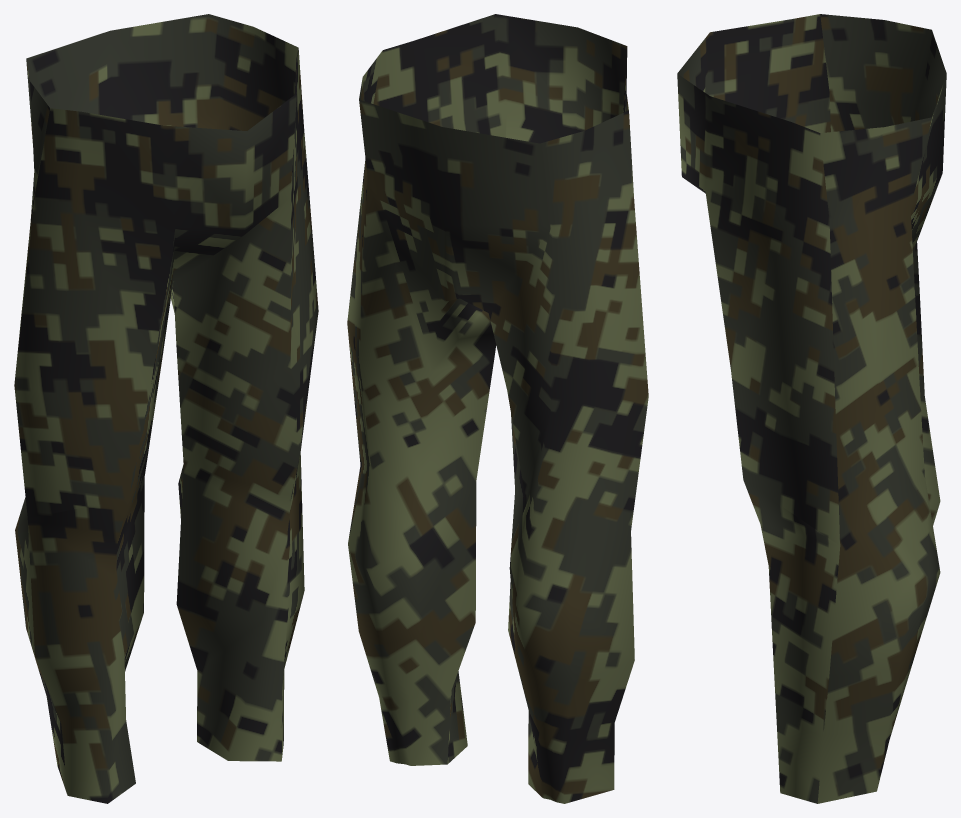
Rendered from Army_Pants.fbx.
The picture shows the model from 3 angles, left to right: view 1: azimuth 30°, elevation 25°; view 2: azimuth 150°, elevation 25°; view 3: azimuth 270°, elevation 25°; orthographic projection.
Visible parts, largest first — view 1: Trousers_Army; view 2: Trousers_Army; view 3: Trousers_Army.
Part boxes in pixels (x1,y1,x2,y2): Trousers_Army: [14, 14, 318, 803]; Trousers_Army: [347, 14, 648, 803]; Trousers_Army: [677, 14, 946, 803].
Bounding box in the file's own units: 32.57 × 71.61 × 25.43.
